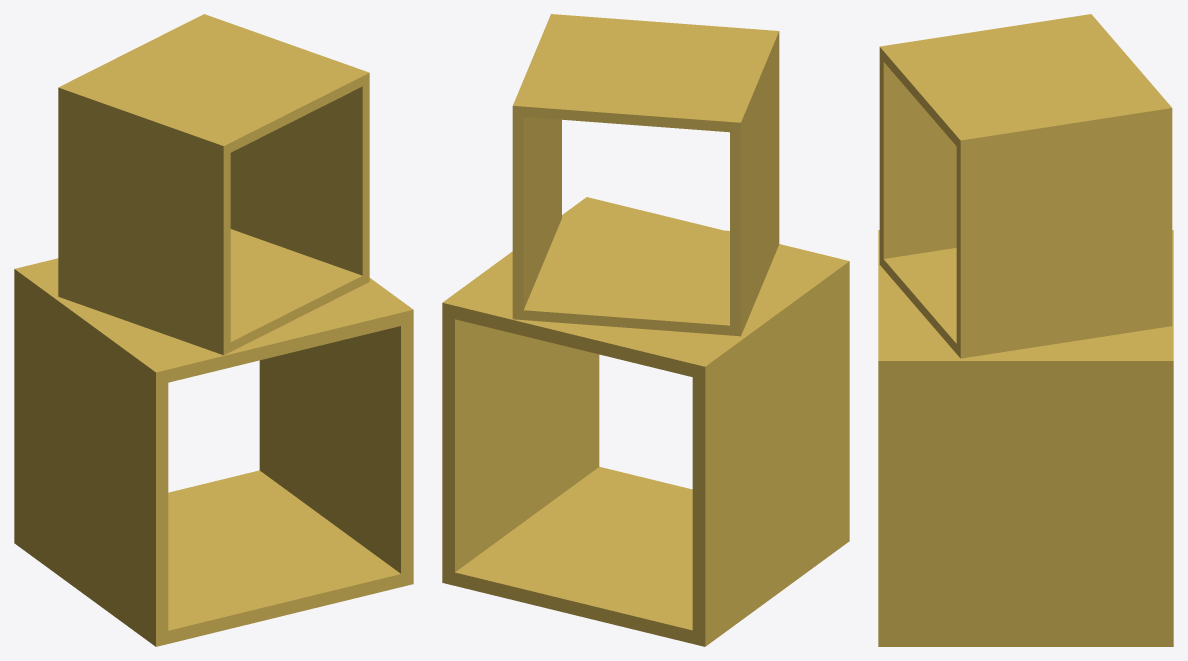
Rendered from 18_furniture_box.FBX.
The picture shows the model from 3 angles, left to right: view 1: azimuth 30°, elevation 25°; view 2: azimuth 150°, elevation 25°; view 3: azimuth 270°, elevation 25°; orthographic projection. The views are drawn at different scales.
Parts seen in each view (by area): view 1: furniture_box; view 2: furniture_box; view 3: furniture_box.
Part boxes in pixels (<box>): furniture_box: <box>14,14,413,646</box>; furniture_box: <box>442,14,849,646</box>; furniture_box: <box>878,14,1173,646</box>.
Size of the model in its own units: 26.29 by 47.18 by 25.03.
